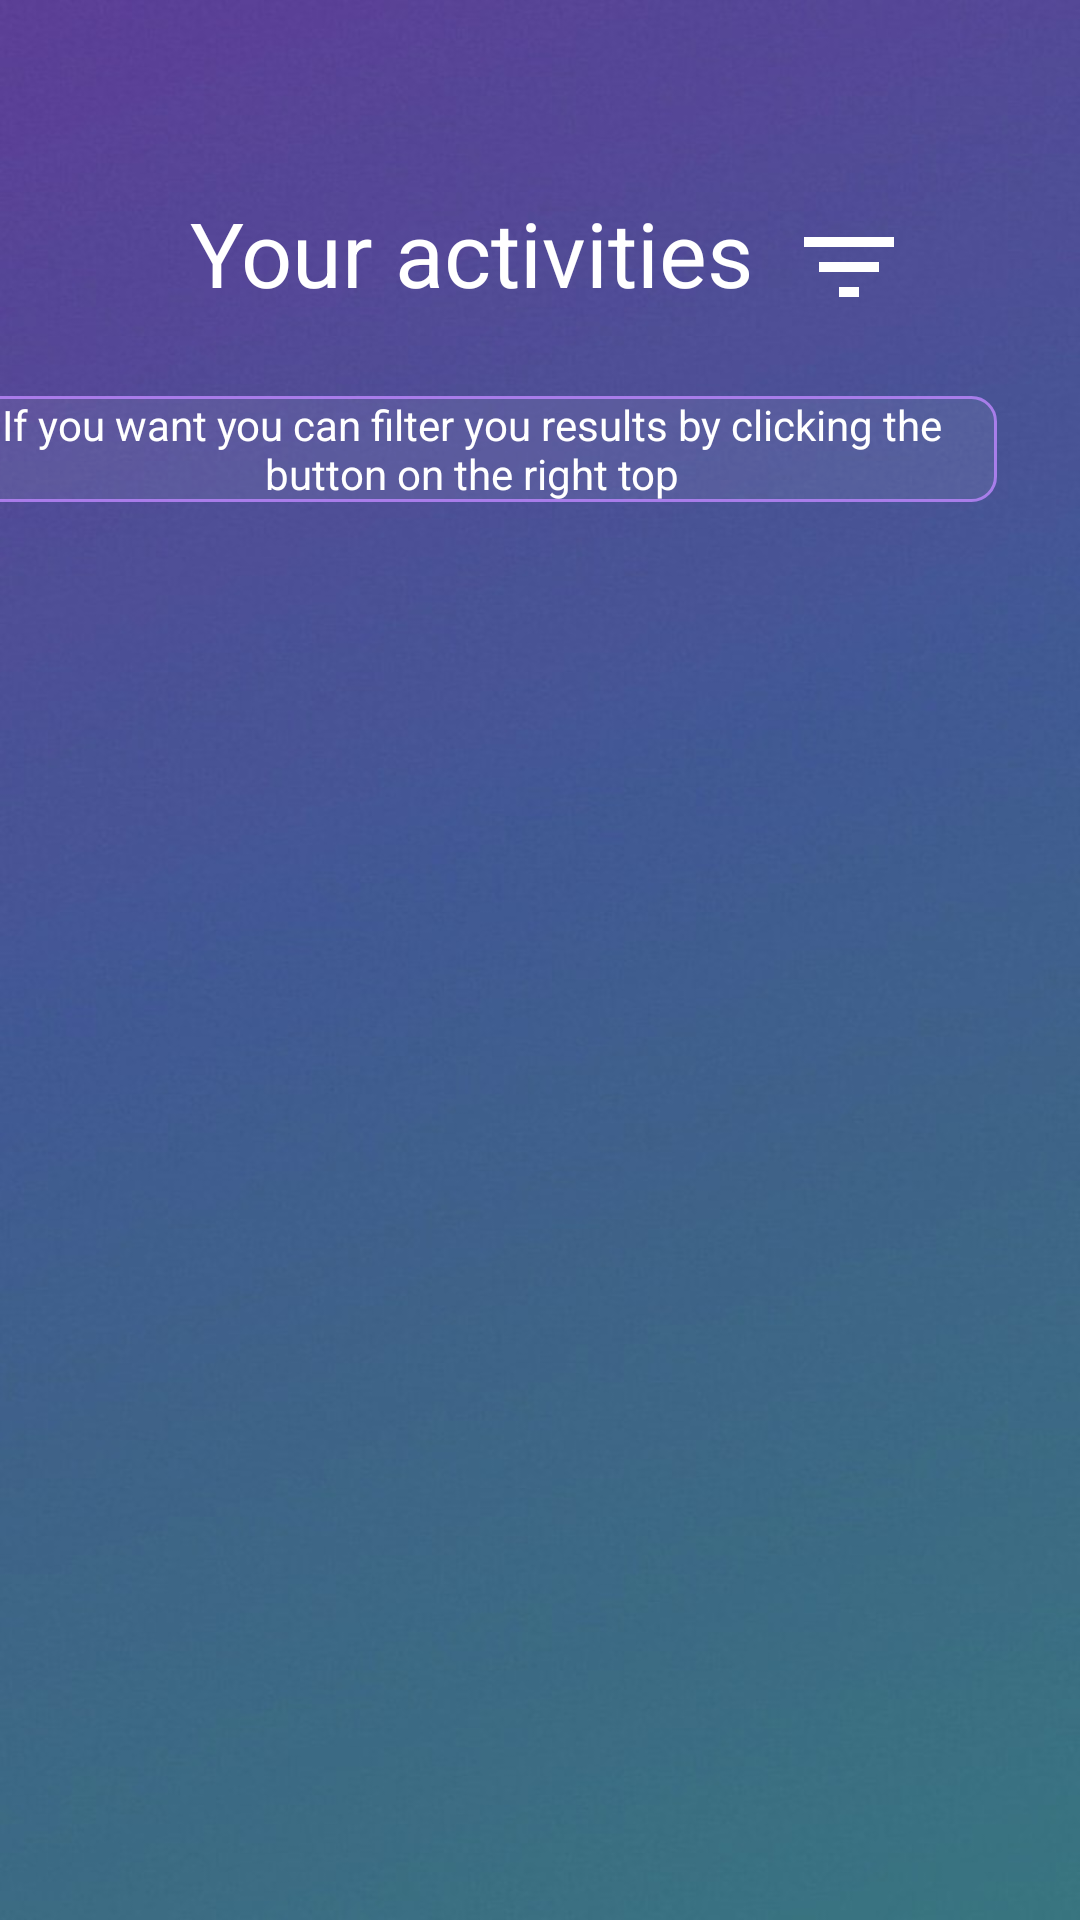

Point at icon controls on the screen. Image size 1080x1920, points as point (x, y).
filter list: point (849, 267)
